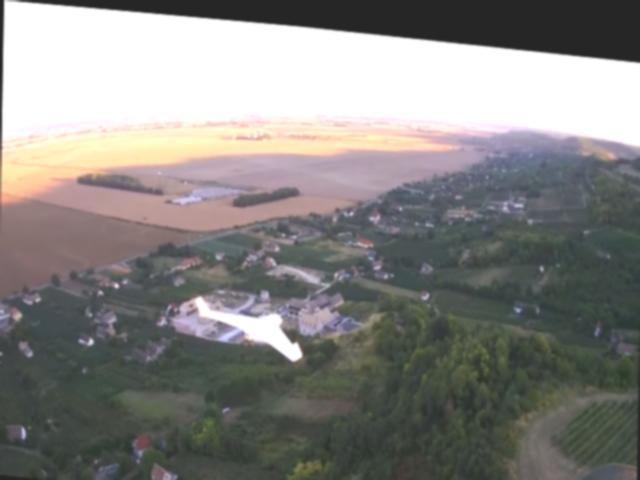plane: (194, 292, 304, 357)
